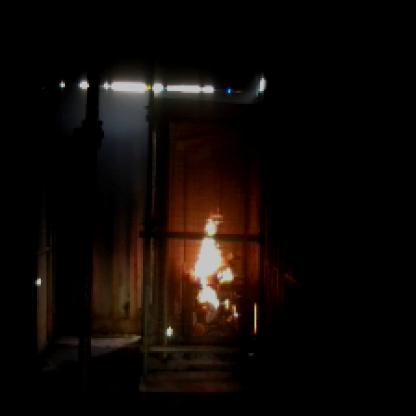Fire: (193, 215, 238, 312)
